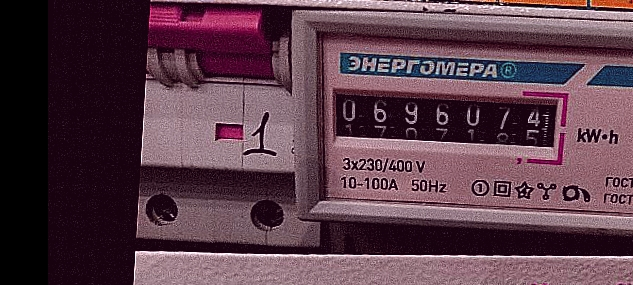0: (337, 96, 358, 122), (464, 100, 482, 127)
4: (525, 103, 542, 128)
5: (524, 127, 540, 146)
6: (370, 96, 391, 124), (432, 101, 450, 125)
7: (493, 103, 512, 130)
9: (400, 99, 421, 125)
screen: (317, 73, 574, 169)
